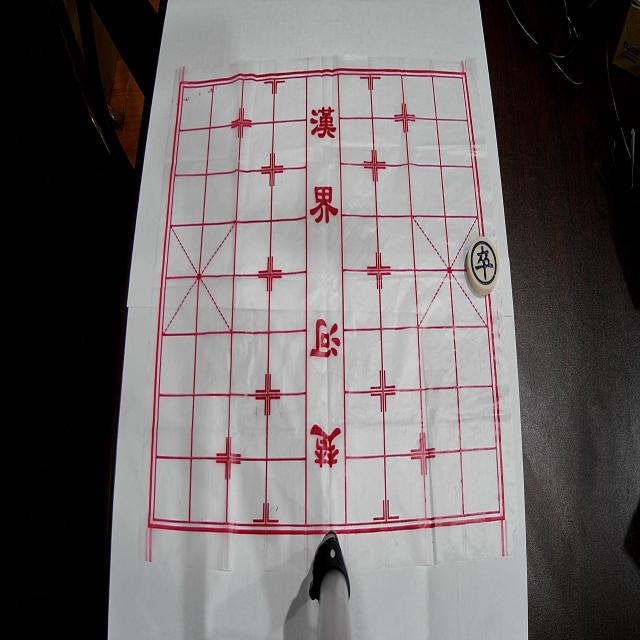black-soldier: (466, 236, 499, 296)
